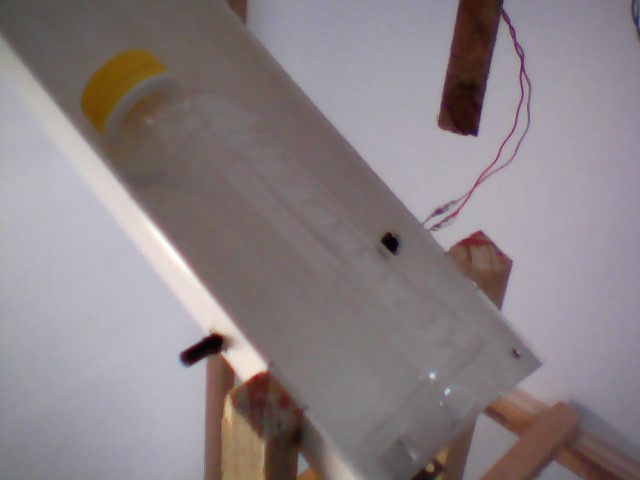plastico: (70, 42, 506, 480)
